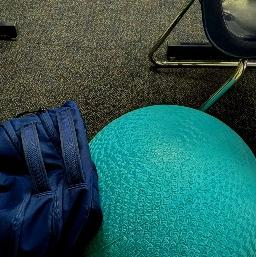algae: (78, 101, 256, 257)
